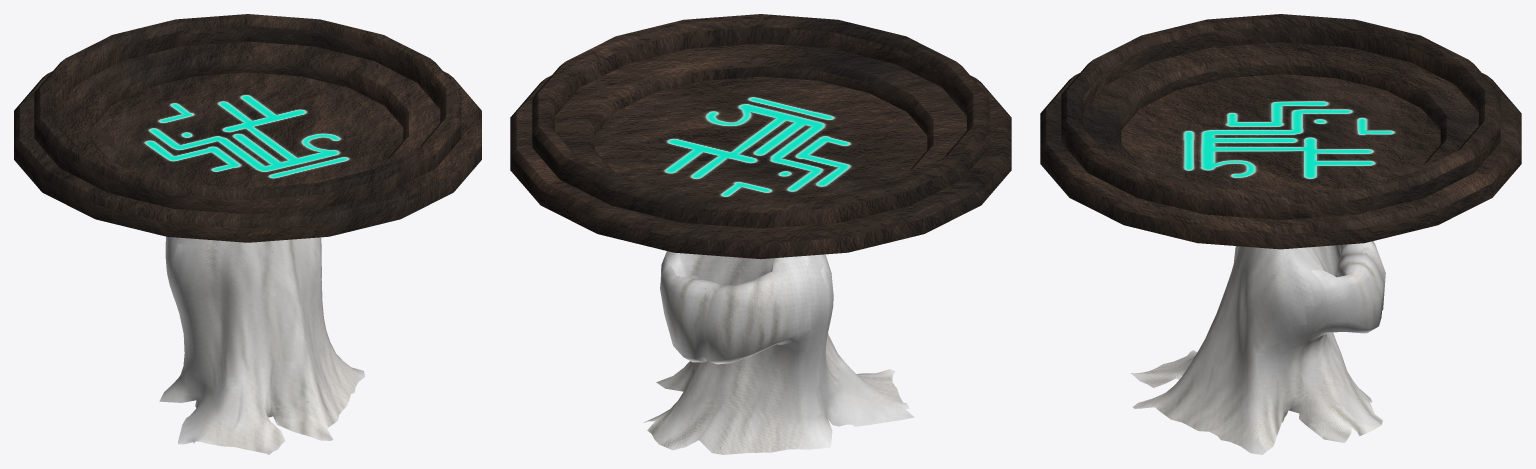
The model's file is shopkeeper2.FBX.
3 renders of one model, left to right at view 1: azimuth 30°, elevation 25°; view 2: azimuth 150°, elevation 25°; view 3: azimuth 270°, elevation 25°, orthographic. The views are drawn at different scales.
Visible parts, largest first — view 1: Cylinder001, Box001; view 2: Cylinder001, Box001; view 3: Cylinder001, Box001.
Part boxes in pixels (x1,y1,x2,y2): Cylinder001: (14, 14, 481, 242); Box001: (159, 236, 364, 454); Cylinder001: (510, 14, 1011, 259); Box001: (644, 251, 914, 454); Cylinder001: (1040, 14, 1521, 249); Box001: (1130, 241, 1385, 454).
Size of the model in its own units: 278 by 274 by 187.
